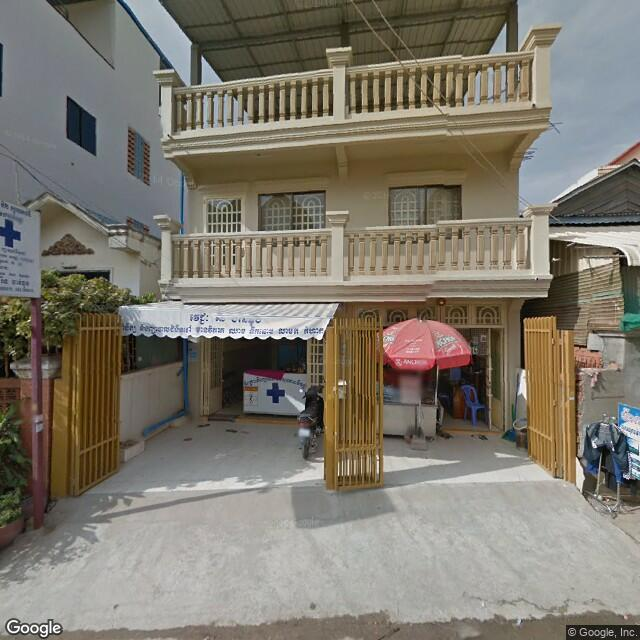litter: (474, 595, 490, 613), (514, 615, 524, 627)
